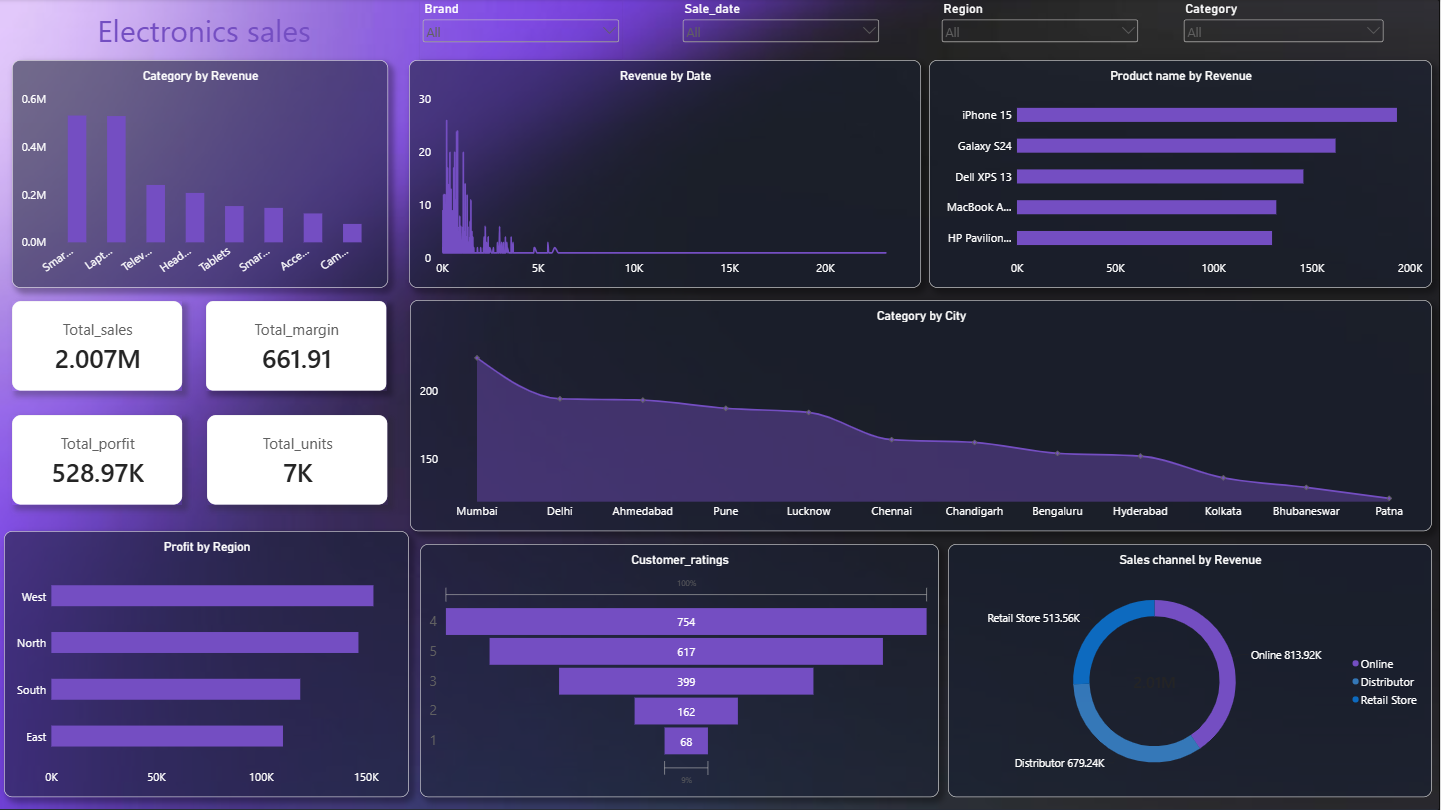

Layout of this report page (visuals, bound fields, positions):
{"tool":"powerbi","page":{"name":"Page 1","canvas":[2560,1440],"ordinal":0},"visuals":[{"type":"slicer","fields":{"Values":["electronics_analytics electronics_sales.brand"]},"box":[750.1,3.5,358.2,102.9],"z":1000},{"type":"lineChart","title":"Revenue by Date","fields":{"Category":["electronics_analytics electronics_sales.total_revenue"],"Y":["CountNonNull(electronics_analytics electronics_sales.sale_date)"]},"box":[730.6,108.2,908,404.3],"z":2000},{"type":"funnel","title":"Customer_ratings","fields":{"Category":["electronics_analytics electronics_sales.customer_rating"],"Y":["CountNonNull(electronics_analytics electronics_sales.product_name)"]},"box":[750.1,966.5,920.4,448.7],"z":3000},{"type":"donutChart","title":"Sales channel by Revenue","fields":{"Category":["electronics_analytics electronics_sales.sales_channel"],"Y":["Sum(electronics_analytics electronics_sales.total_revenue)"]},"box":[1686.5,966.5,858.3,448.7],"z":4000},{"type":"areaChart","title":"Category by City","fields":{"Category":["electronics_analytics electronics_sales.city"],"Y":["CountNonNull(electronics_analytics electronics_sales.category)"]},"box":[732.4,533.8,1812.4,409.7],"z":5000},{"type":"slicer","title":"Category","fields":{"Values":["electronics_analytics electronics_sales.category"]},"box":[2099.7,3.5,363.5,108.2],"z":6000},{"type":"slicer","fields":{"Values":["electronics_analytics electronics_sales.region"]},"box":[1670.5,3.5,358.2,101.1],"z":7000},{"type":"slicer","fields":{"Values":["electronics_analytics electronics_sales.sale_date"]},"box":[1211.2,3.5,358.2,104.6],"z":8000},{"type":"cardVisual","fields":{"Data":["electronics_analytics electronics_sales.Total_sales"]},"box":[26.2,536.2,302.4,159.2],"z":9000},{"type":"cardVisual","fields":{"Data":["electronics_analytics electronics_sales.total units"]},"box":[372.9,737.8,320.5,159.2],"z":10000},{"type":"cardVisual","fields":{"Data":["electronics_analytics electronics_sales.total_prof"]},"box":[26.2,737.8,302.4,159.2],"z":11000},{"type":"cardVisual","fields":{"Data":["electronics_analytics electronics_sales.total_margin"]},"box":[370.9,536.2,320.5,159.2],"z":12000},{"type":"lineStackedColumnComboChart","title":"Category by Revenue","fields":{"Category":["electronics_analytics electronics_sales.category"],"Y":["Sum(electronics_analytics electronics_sales.total_revenue)"]},"box":[26.6,108.2,666.8,404.3],"z":13000},{"type":"clusteredBarChart","title":"Profit by Region","fields":{"Category":["electronics_analytics electronics_sales.region"],"Y":["Sum(electronics_analytics electronics_sales.total_profit)"]},"box":[12.4,943.4,718.2,471.7],"z":14000},{"type":"clusteredBarChart","title":"Product name by Revenue ","fields":{"Category":["electronics_analytics electronics_sales.product_name"],"Y":["Sum(electronics_analytics electronics_sales.total_revenue)"]},"box":[1652.8,108.2,892,404.3],"z":15000},{"type":"textbox","box":[26.6,17.7,666.8,70.9],"z":15001}]}

Visuals, with their boxes in screenshot pixels (x1, y1, x2, y2), scaled from the page's 2560x1440 canvas onto the 1441x810 screenshot:
slicer - electronics_analytics electronics_sales.brand: 422, 2, 624, 60
"Revenue by Date" lineChart: 411, 61, 922, 288
"Customer_ratings" funnel: 422, 544, 940, 796
"Sales channel by Revenue" donutChart: 949, 544, 1432, 796
"Category by City" areaChart: 412, 300, 1432, 531
"Category" slicer: 1182, 2, 1387, 63
slicer - electronics_analytics electronics_sales.region: 940, 2, 1142, 59
slicer - electronics_analytics electronics_sales.sale_date: 682, 2, 883, 61
cardVisual - electronics_analytics electronics_sales.Total_sales: 15, 302, 185, 391
cardVisual - electronics_analytics electronics_sales.total units: 210, 415, 390, 505
cardVisual - electronics_analytics electronics_sales.total_prof: 15, 415, 185, 505
cardVisual - electronics_analytics electronics_sales.total_margin: 209, 302, 389, 391
"Category by Revenue" lineStackedColumnComboChart: 15, 61, 390, 288
"Profit by Region" clusteredBarChart: 7, 531, 411, 796
"Product name by Revenue " clusteredBarChart: 930, 61, 1432, 288
textbox: 15, 10, 390, 50
